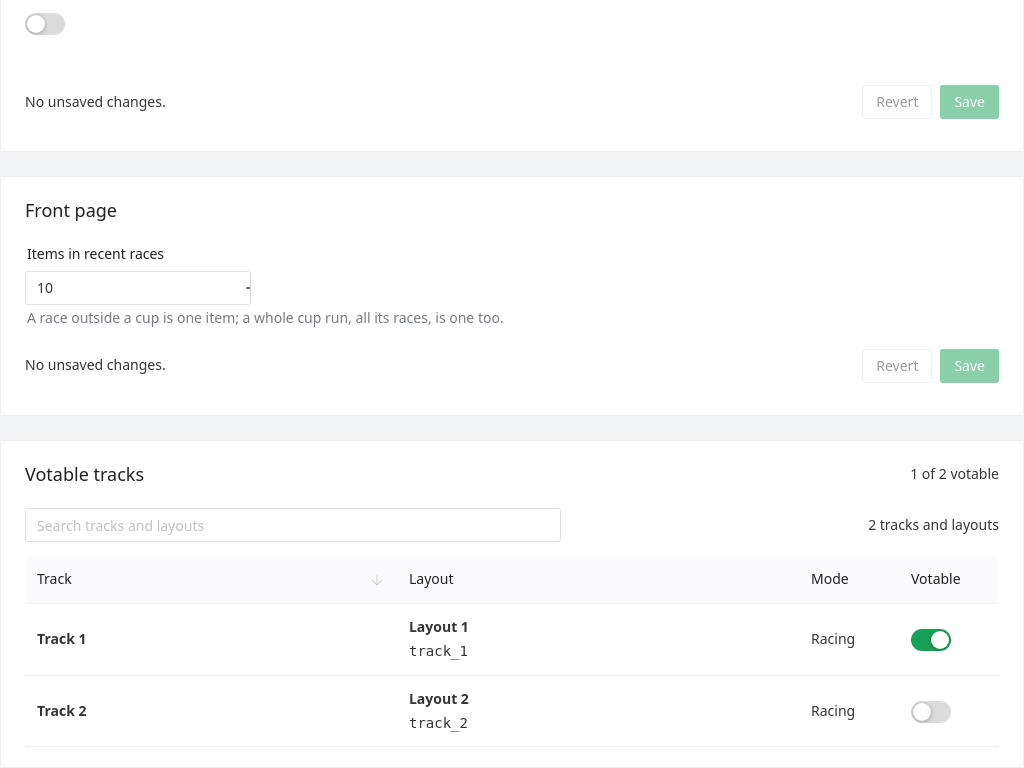
Test: SettingsView › shows a track as it is now when its switch lost a race
(page scrolled)
Click the switch named "Votable: Track 1 - Layout 1" at (931, 640), box [911, 629, 951, 651]
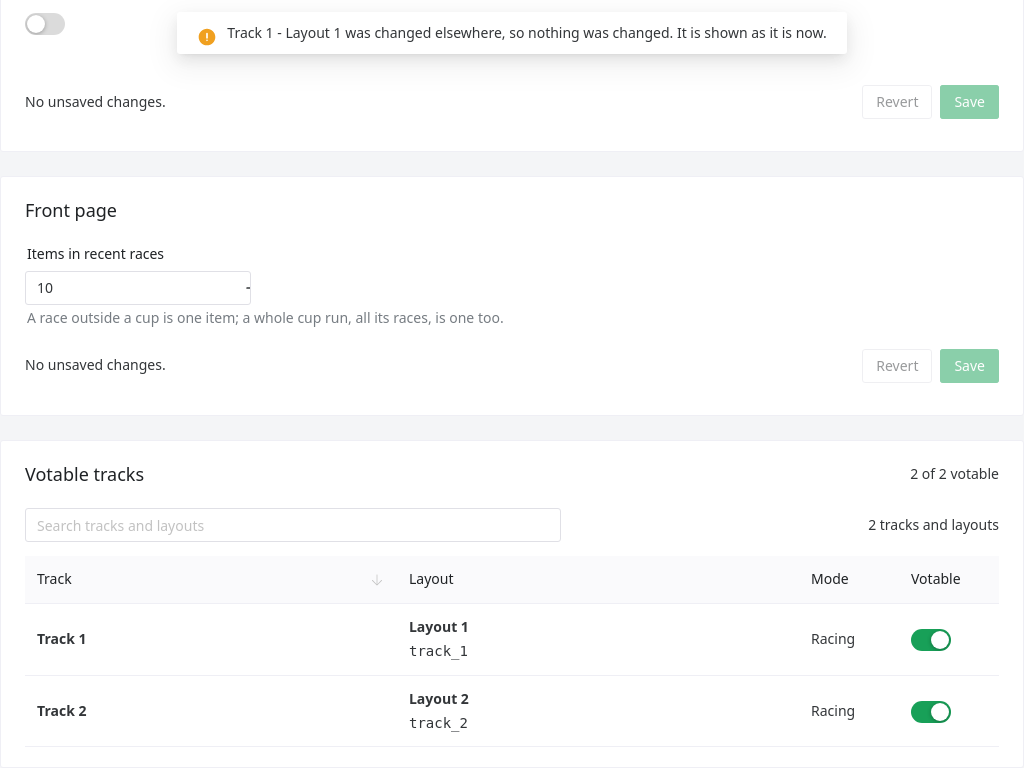
Result: the text "2 of 2 votable" is shown at [910, 463, 999, 485]
Result: the text "was changed elsewhere" is shown at [227, 23, 827, 42]
